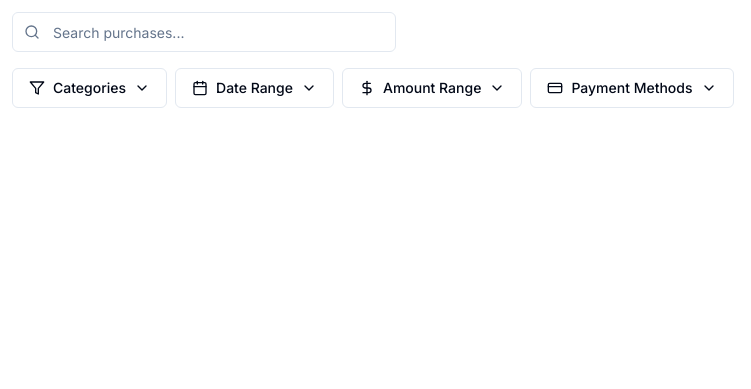
Test: PurchaseFilters › should open category dropdown when clicked
Click the button "Categories": point(90, 88) [12,68,167,108]
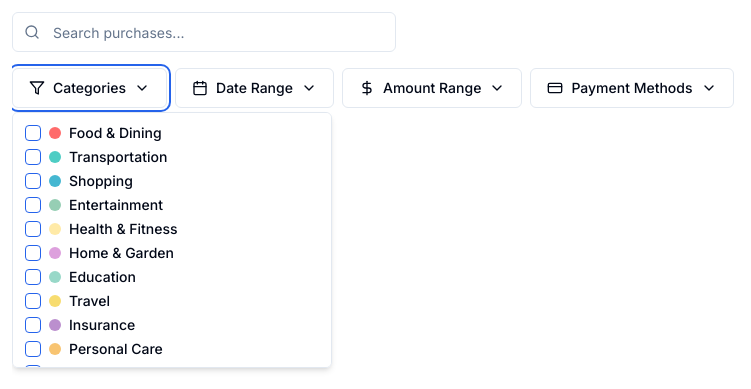
Check: the checkbox "Food & Dining" is shown, box [49,124,162,141]
Check: the checkbox "Transportation" is shown, box [49,148,167,165]
Check: the checkbox "Shopping" is shown, box [49,172,133,189]
